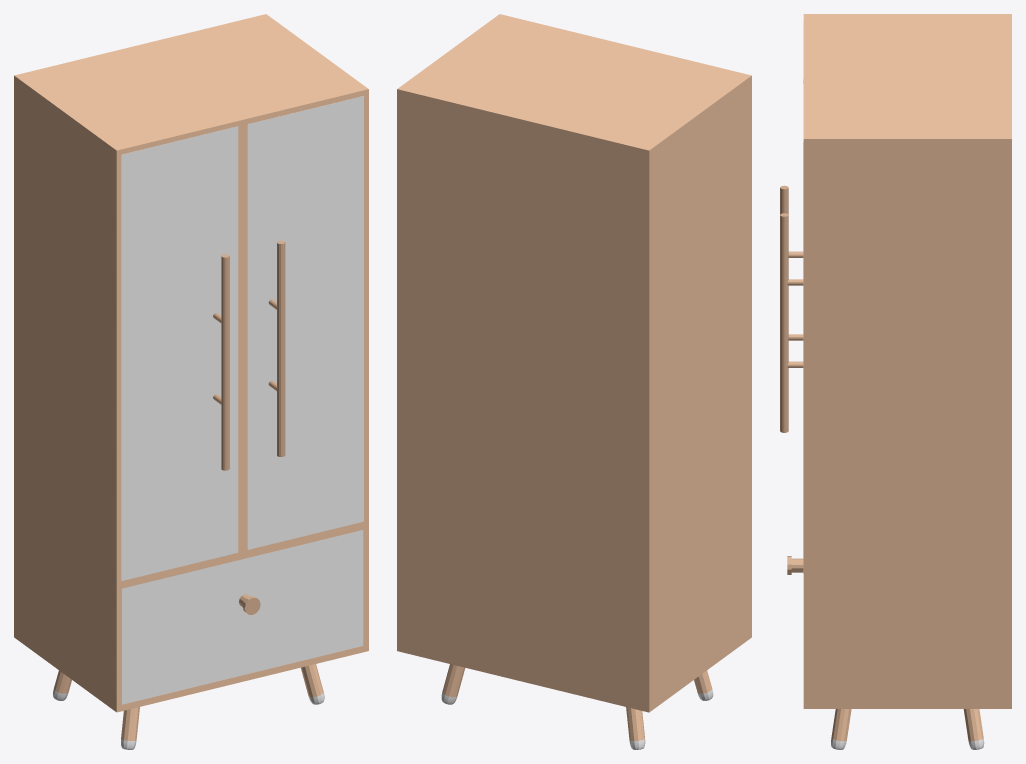
Rendered from closet-bedroom.fbx.
The picture shows the model from 3 angles, left to right: view 1: azimuth 30°, elevation 25°; view 2: azimuth 150°, elevation 25°; view 3: azimuth 270°, elevation 25°; orthographic projection.
Visible parts, largest first — view 1: bed.005, Cube.004, Cube.005, Cube.006; view 2: bed.005; view 3: bed.005, Cube.005, Cube.004.
Boxes of the visible parts, x1,y1,x2,y2 form: bed.005: (14, 14, 368, 749); Cube.004: (121, 126, 238, 580); Cube.005: (247, 96, 363, 549); Cube.006: (122, 530, 363, 704); bed.005: (397, 14, 751, 749); bed.005: (803, 14, 1011, 749); Cube.005: (780, 84, 803, 573); Cube.004: (780, 21, 803, 340).
Bounding box in the file's own units: 203 × 477 × 159.
